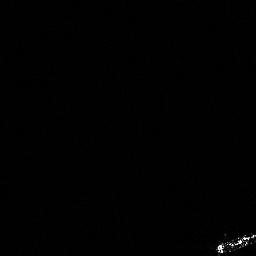ship: (212, 229, 256, 256)
